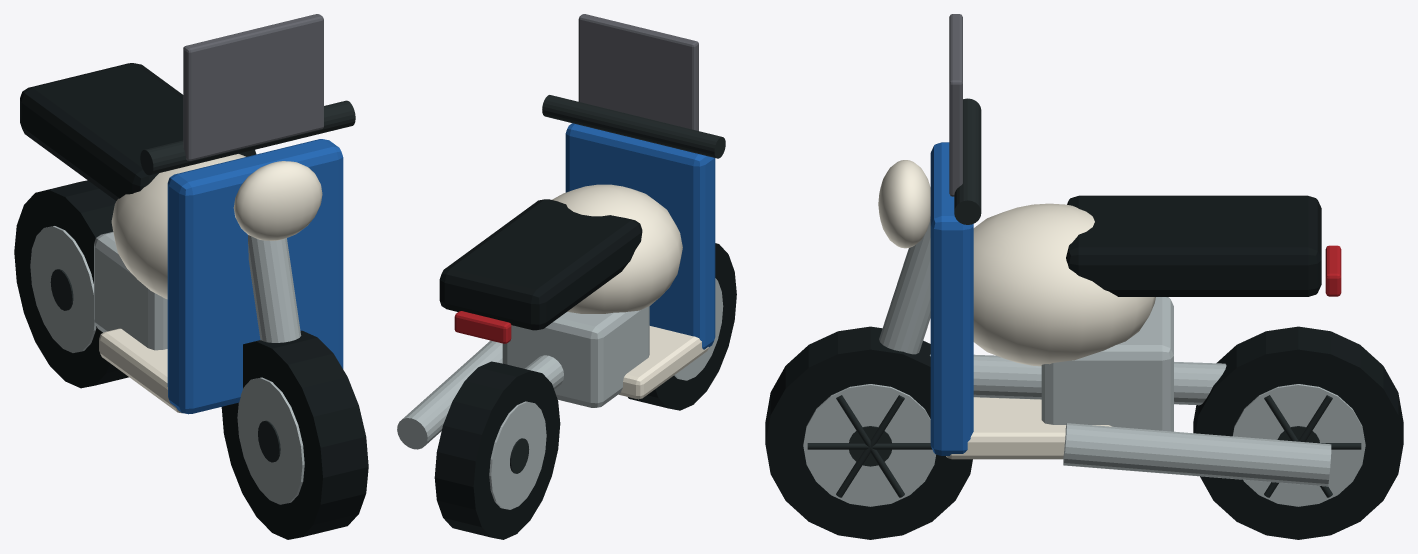
Rendered from better.glb.
3 views of the same model, side by side, from view 1: azimuth 30°, elevation 25°; view 2: azimuth 150°, elevation 25°; view 3: azimuth 270°, elevation 25° (orthographic). The views are drawn at different scales.
Parts seen in each view (by area): view 1: Saddle, Scooter apron, Engine, Windshield, Footboard, Handlebar; view 2: Saddle, Engine, Scooter apron, Footboard, Windshield, Handlebar, Rear light; view 3: Saddle, Engine, Footboard, Scooter apron, Handlebar, Windshield, Rear light.
Part boxes in pixels (bbox=[...]): Saddle: bbox=[14, 63, 368, 539]; Scooter apron: bbox=[167, 139, 343, 414]; Engine: bbox=[30, 226, 304, 504]; Windshield: bbox=[183, 14, 323, 160]; Footboard: bbox=[99, 154, 322, 413]; Handlebar: bbox=[50, 100, 355, 462]; Saddle: bbox=[434, 199, 736, 539]; Engine: bbox=[397, 278, 723, 509]; Scooter apron: bbox=[565, 123, 715, 349]; Footboard: bbox=[552, 184, 708, 399]; Windshield: bbox=[578, 14, 698, 130]; Handlebar: bbox=[510, 95, 725, 473]; Rear light: bbox=[454, 311, 511, 343]; Saddle: bbox=[765, 195, 1403, 539]; Engine: bbox=[803, 217, 1365, 506]; Footboard: bbox=[878, 160, 1155, 459]; Scooter apron: bbox=[930, 142, 973, 455]; Handlebar: bbox=[807, 98, 1361, 497]; Windshield: bbox=[949, 14, 962, 196]; Rear light: bbox=[1325, 245, 1341, 296].
Size of the model in its own units: 0.3571 by 0.78 by 0.9371.
